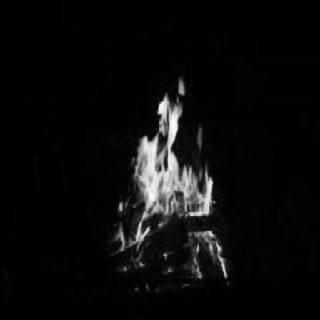Fire: (108, 58, 232, 292)
